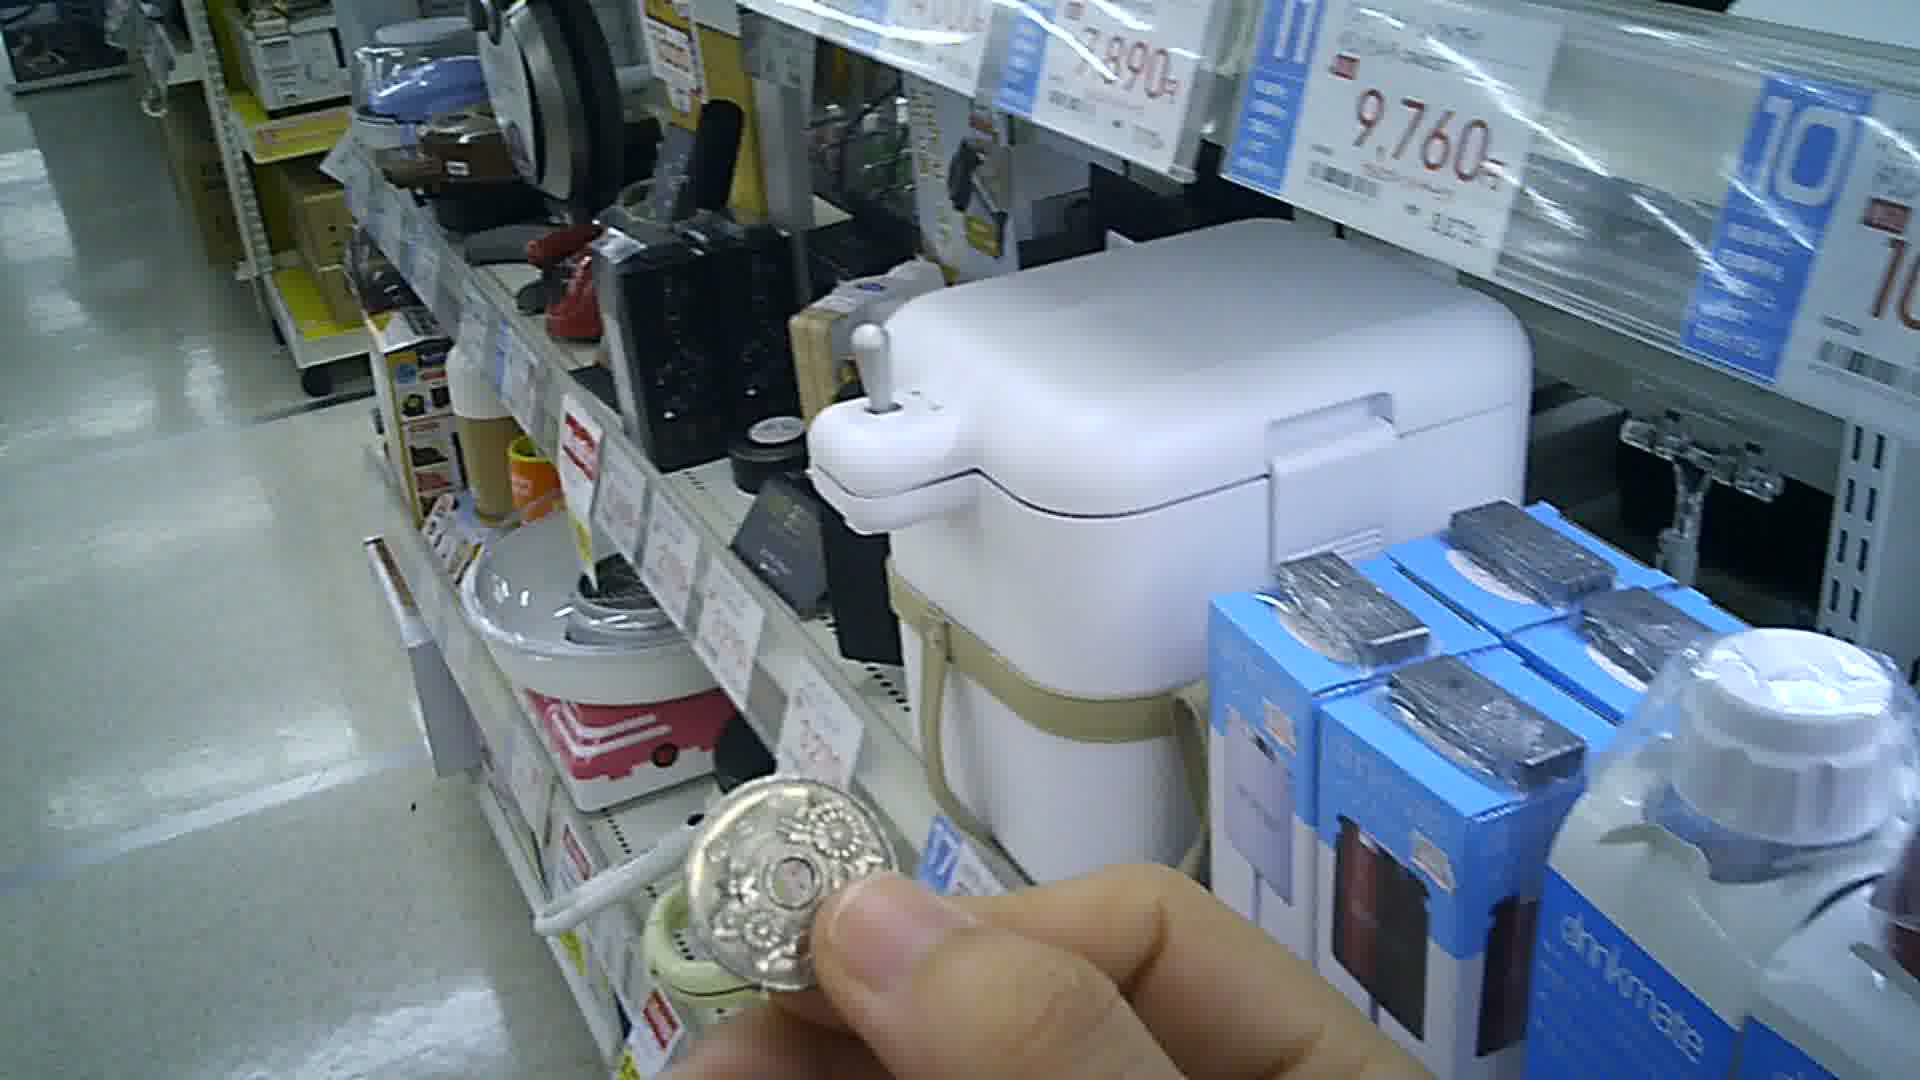50 Yen: (678, 775, 899, 990)
